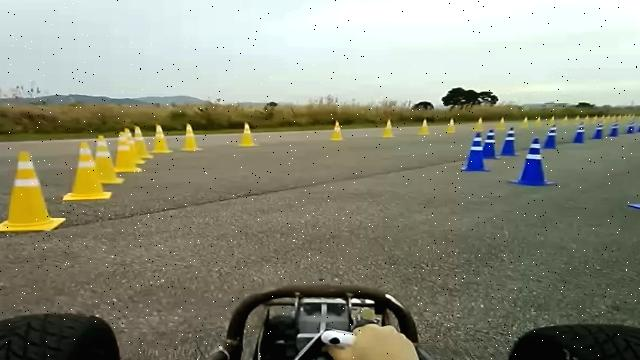blue cone: (507, 137, 558, 186), (461, 132, 491, 172), (627, 146, 640, 214), (499, 126, 520, 156), (482, 128, 500, 159), (543, 124, 558, 149), (573, 122, 586, 143), (592, 123, 604, 139), (609, 121, 620, 137)
yellow cone: (0, 151, 67, 232), (63, 141, 112, 201), (95, 135, 124, 184), (133, 125, 153, 159), (151, 124, 173, 154), (181, 122, 203, 151), (238, 121, 260, 147), (330, 120, 344, 140), (382, 118, 396, 138), (418, 118, 430, 135), (472, 132, 483, 149), (446, 117, 456, 133), (474, 117, 484, 131), (497, 116, 506, 129), (534, 115, 543, 127), (521, 116, 529, 128), (548, 115, 556, 127), (562, 114, 570, 125)
